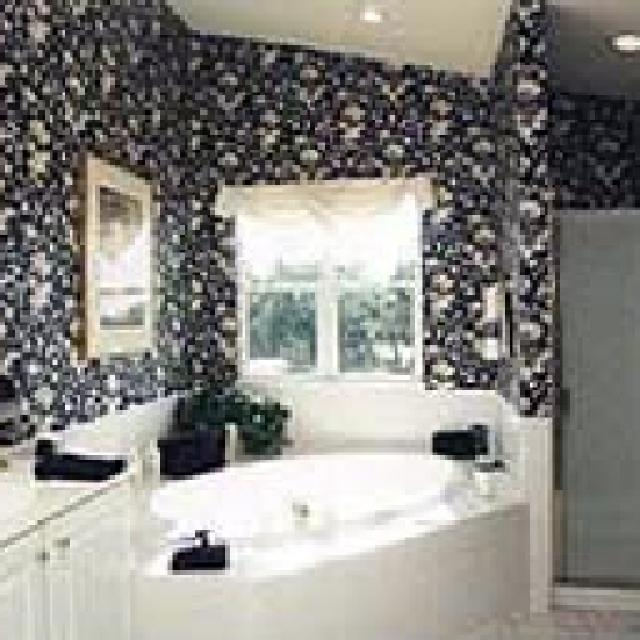2001: (235, 180, 422, 378)
bath: (128, 430, 525, 635)
cabinet door: (0, 462, 128, 638), (0, 472, 128, 635)
ceiling lamps: (600, 30, 635, 55), (348, 5, 390, 22)
counter bottom: (0, 458, 132, 542)
curtain crop: (215, 178, 428, 282)
object: (32, 435, 120, 478)
painting crop: (80, 155, 152, 355)
plant -x: (172, 382, 288, 452)
shower crop: (520, 0, 635, 608)
shower door: (548, 205, 635, 588)
towel basket: (162, 540, 225, 572), (430, 428, 482, 458)
